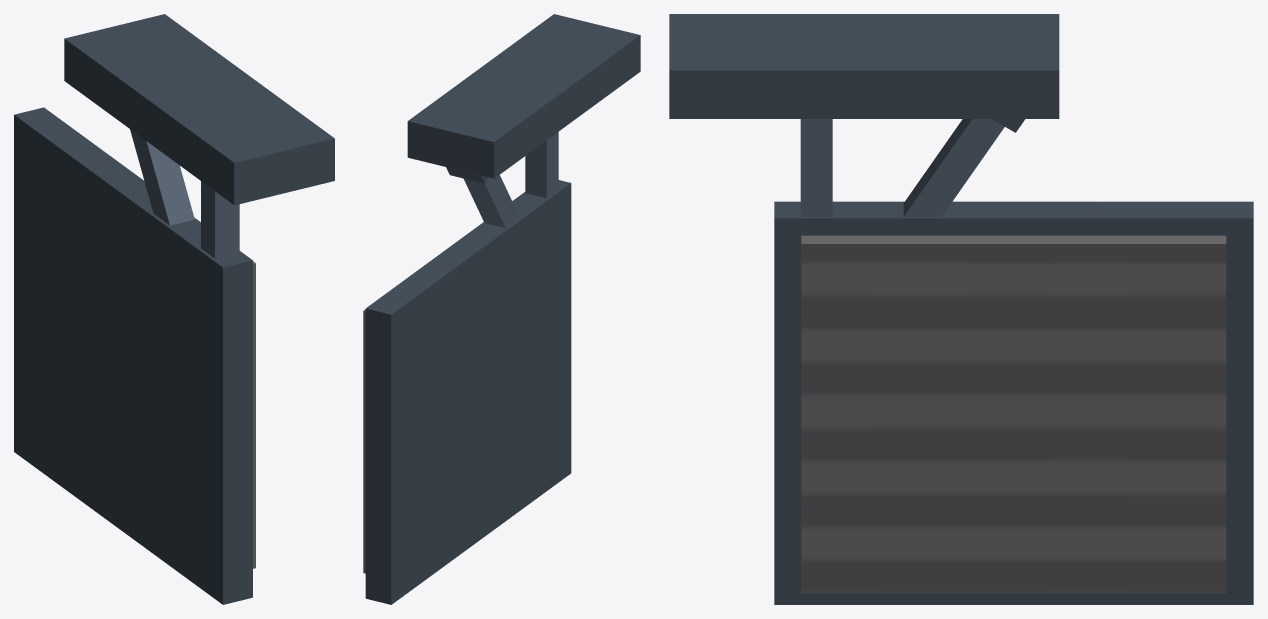
The model's file is SignProp_1_A_2.fbx.
3 renders of one model, left to right at view 1: azimuth 30°, elevation 25°; view 2: azimuth 150°, elevation 25°; view 3: azimuth 270°, elevation 25°, orthographic. The views are drawn at different scales.
Visible parts, largest first — view 1: SignProp_1_A_2; view 2: SignProp_1_A_2; view 3: SignProp_1_A_2.
Part boxes in pixels (box(x1,y1,x2,y2)): SignProp_1_A_2: box(14, 14, 334, 604); SignProp_1_A_2: box(363, 14, 640, 604); SignProp_1_A_2: box(669, 14, 1253, 604).
Bounding box in the file's own units: 20.79 × 95.68 × 91.36.
